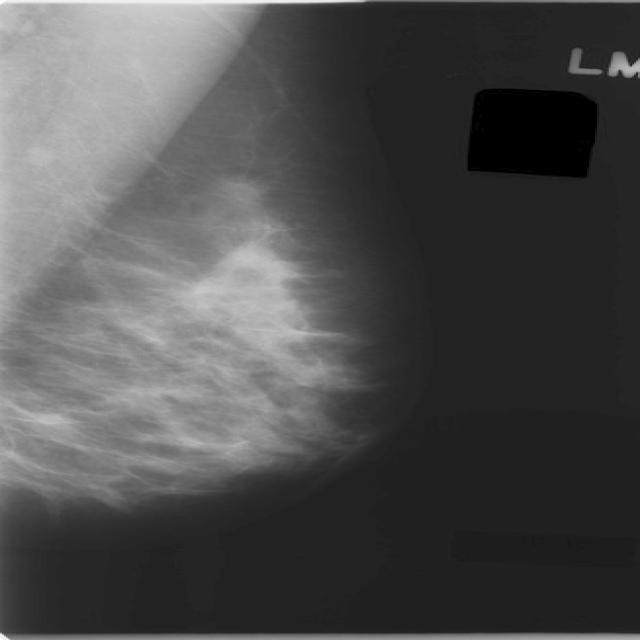tumour: (225, 178, 258, 202)
